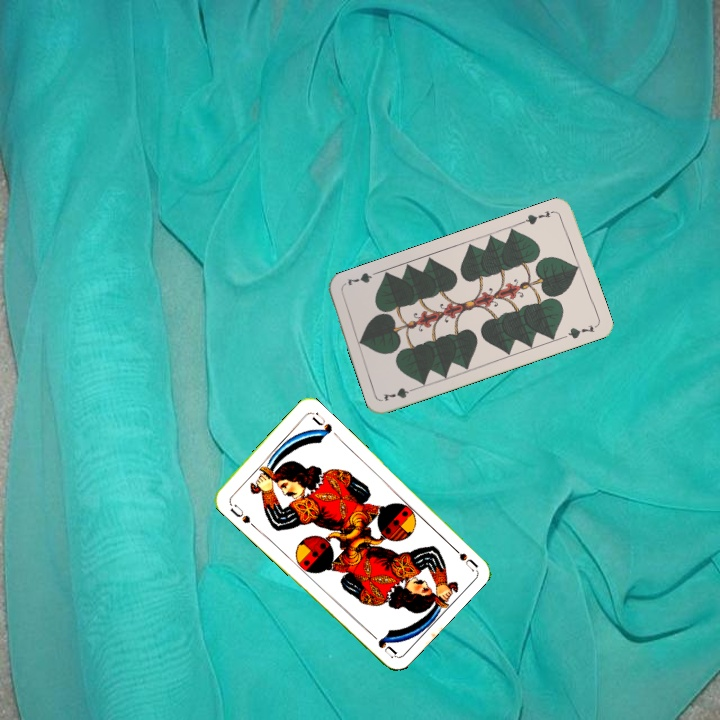G7: (379, 383, 420, 404), (518, 206, 558, 227)
SU: (445, 539, 480, 573), (225, 498, 258, 530)
